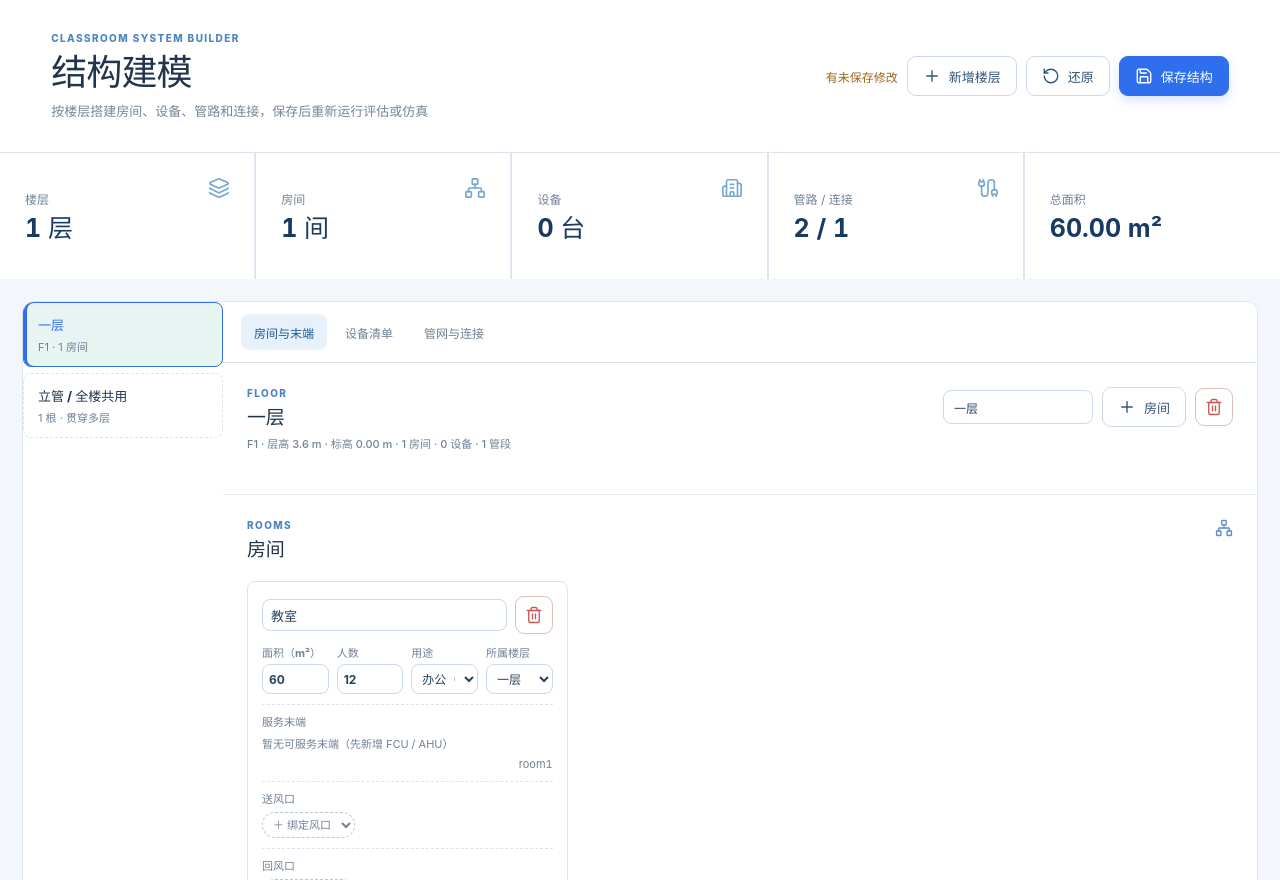
Scenario: BuildingView structural editor › groups risers into a dedicated view instead of every floor
expect the text "chw_riser" is not shown: met
Click the button with class "floor-nav-item" showing "立管 / 全楼共用 1 根 · 贯穿多层": (123, 406) [23, 373, 223, 438]
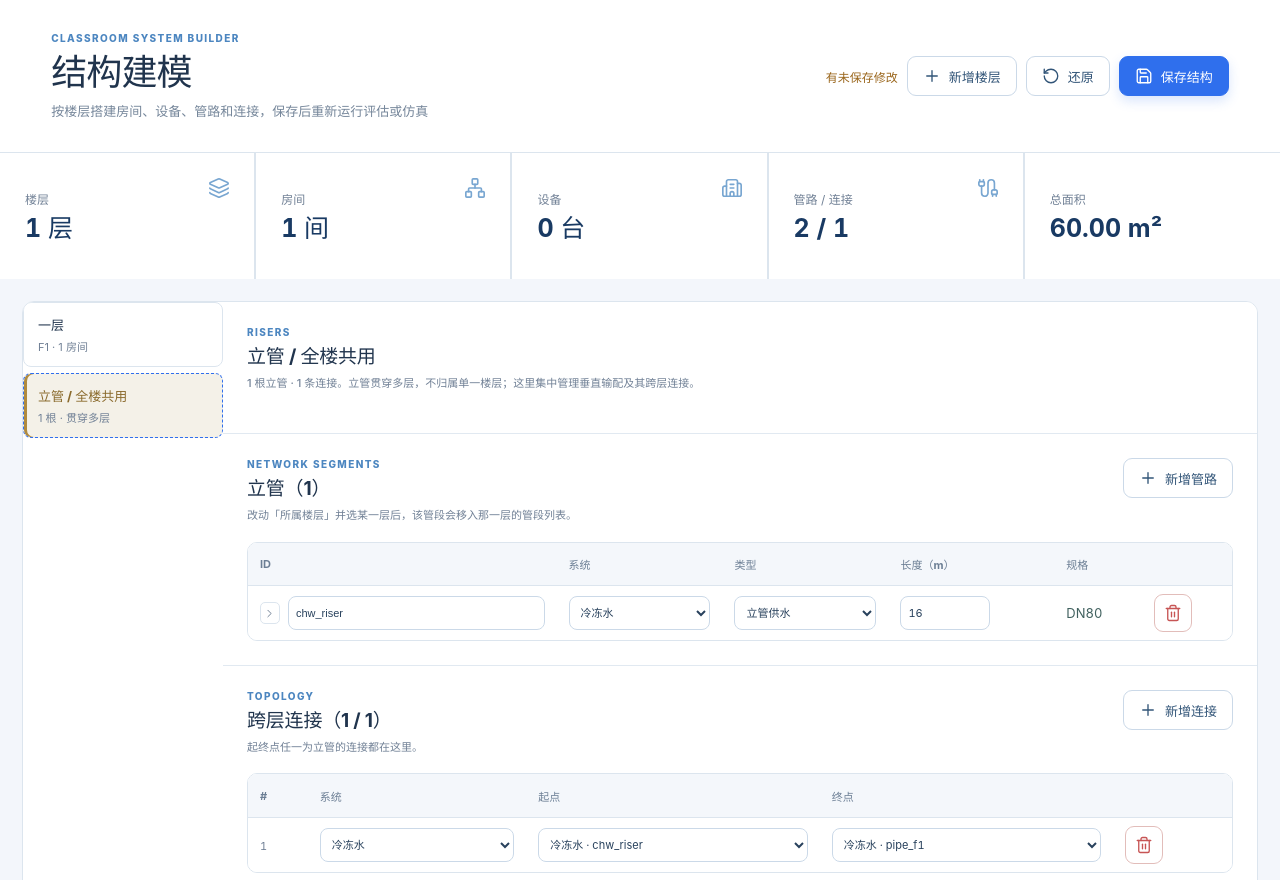
expect the text "立管（1）" is shown: met, box [247, 477, 330, 500]
expect the text "跨层连接（1 / 1）" is shown: met, box [247, 709, 392, 732]
expect the text "层高" is gone: met
